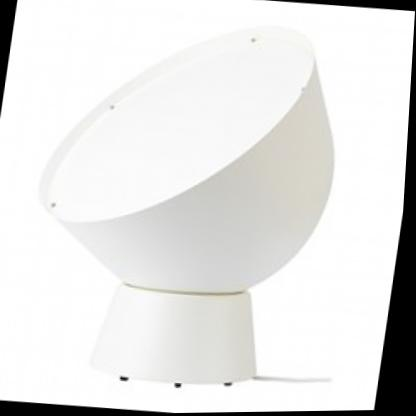Lamp: (8, 0, 364, 411)
